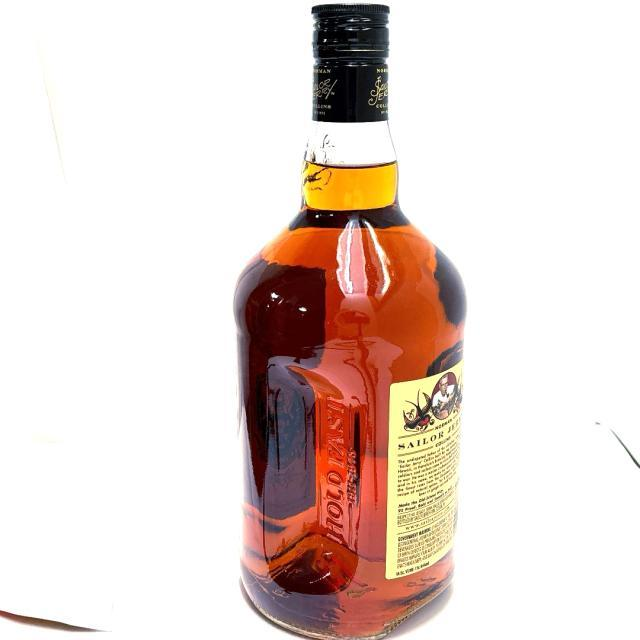Sailor-Jerry-Spiced-Rum-1.75L-Bottle-ABV-46-92-Proof: (233, 5, 465, 640)
